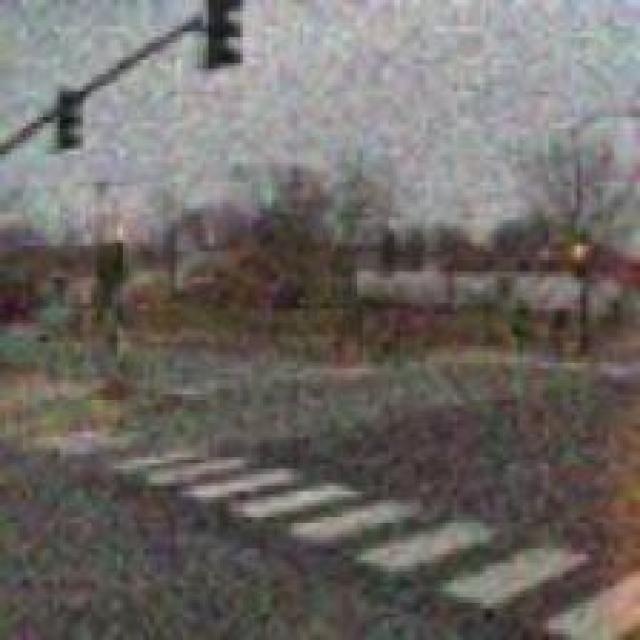walk-crossing: (69, 406, 634, 634)
